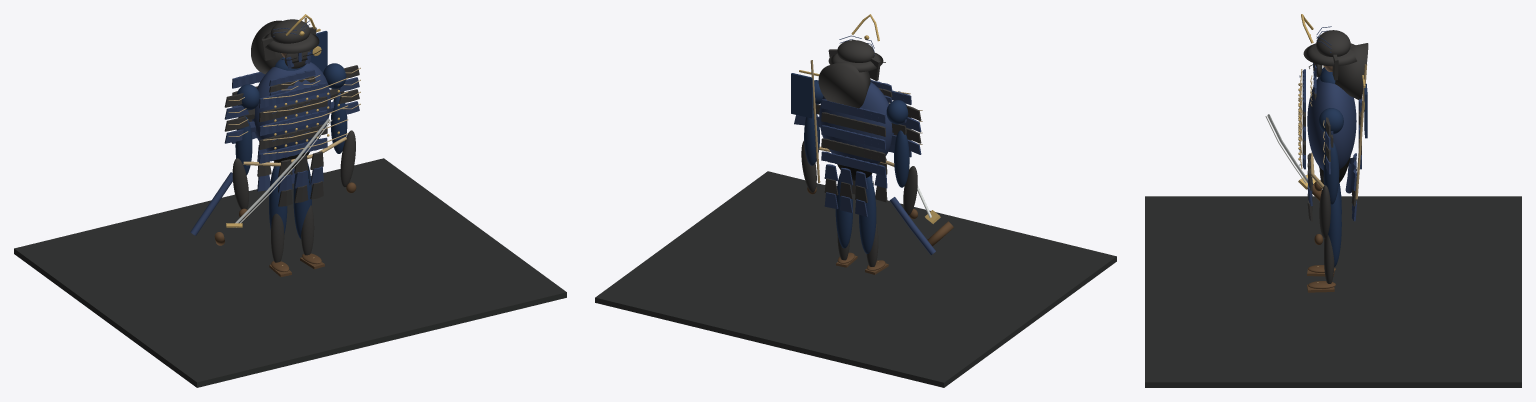
Rendered from actor-uesugi-05.glb.
3 views of the same model, side by side, from view 1: azimuth 30°, elevation 25°; view 2: azimuth 150°, elevation 25°; view 3: azimuth 270°, elevation 25° (orthographic). The views are drawn at different scales.
Parts seen in each view (by area): view 1: matte charcoal inspection plinth, rounded do cuirass silhouette, rear shikoro neck guard flare, segmented kabuto helmet bowl, right armored upper arm, right kote forearm guard, left kote forearm guard, wide kabuto brim, left hakama trouser leg, right hakama trouser leg, left armored upper arm, left shin greave (+2 smaller); view 2: matte charcoal inspection plinth, rear shikoro neck guard flare, rounded do cuirass silhouette, cloth sashimono banner panel, left hakama trouser leg, left armored upper arm, segmented kabuto helmet bowl, right hakama trouser leg, right armored upper arm, left kote forearm guard, lacquered saya scabbard at left hip, right kote forearm guard; view 3: matte charcoal inspection plinth, rounded do cuirass silhouette, rear shikoro neck guard flare, segmented kabuto helmet bowl, right hakama trouser leg, wide kabuto brim, right armored upper arm, right kote forearm guard, right shoulder undercloth, right shin greave, bamboo sashimono back pole.
Boxes of the visible parts, left/top/right/bottom form: matte charcoal inspection plinth: left=14, top=158, right=566, bottom=387; rounded do cuirass silhouette: left=252, top=62, right=330, bottom=151; rear shikoro neck guard flare: left=251, top=20, right=283, bottom=74; segmented kabuto helmet bowl: left=270, top=19, right=310, bottom=43; right armored upper arm: left=330, top=93, right=347, bottom=153; right kote forearm guard: left=340, top=130, right=355, bottom=187; left kote forearm guard: left=232, top=158, right=248, bottom=209; wide kabuto brim: left=261, top=33, right=319, bottom=53; left hakama trouser leg: left=269, top=166, right=287, bottom=234; right hakama trouser leg: left=293, top=163, right=311, bottom=239; left armored upper arm: left=235, top=116, right=252, bottom=175; left shin greave: left=271, top=213, right=284, bottom=262; matte charcoal inspection plinth: left=595, top=171, right=1116, bottom=387; rear shikoro neck guard flare: left=818, top=61, right=870, bottom=108; rounded do cuirass silhouette: left=819, top=82, right=893, bottom=164; cloth sashimono banner panel: left=791, top=73, right=813, bottom=118; left hakama trouser leg: left=859, top=176, right=876, bottom=253; left armored upper arm: left=894, top=130, right=909, bottom=187; segmented kabuto helmet bowl: left=837, top=40, right=874, bottom=62; right hakama trouser leg: left=835, top=173, right=852, bottom=248; right armored upper arm: left=804, top=110, right=819, bottom=165; left kote forearm guard: left=903, top=166, right=917, bottom=215; lacquered saya scabbard at left hip: left=889, top=197, right=935, bottom=254; right kote forearm guard: left=801, top=140, right=816, bottom=192; matte charcoal inspection plinth: left=1145, top=196, right=1521, bottom=387; rounded do cuirass silhouette: left=1307, top=76, right=1356, bottom=170; rear shikoro neck guard flare: left=1335, top=43, right=1368, bottom=99; segmented kabuto helmet bowl: left=1316, top=30, right=1350, bottom=56; right hakama trouser leg: left=1328, top=189, right=1341, bottom=267; wide kabuto brim: left=1303, top=43, right=1356, bottom=66; right armored upper arm: left=1323, top=142, right=1339, bottom=204; right kote forearm guard: left=1319, top=185, right=1330, bottom=238; right shoulder undercloth: left=1319, top=108, right=1343, bottom=134; right shin greave: left=1324, top=235, right=1334, bottom=283; bamboo sashimono back pole: left=1355, top=64, right=1366, bottom=199.
Size of the model in its own units: 4.2 by 2.96 by 3.6.
